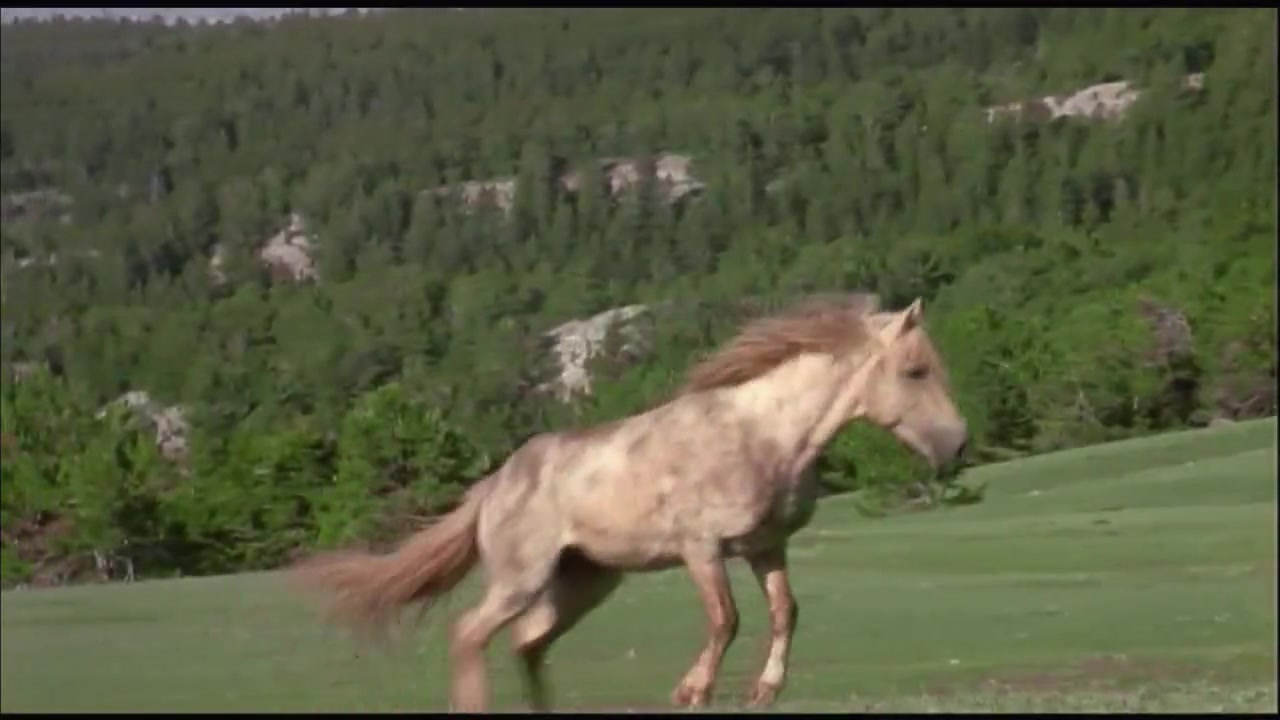horse: (292, 294, 977, 715)
